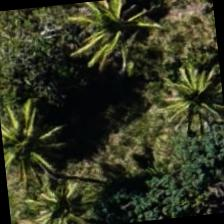Kelapa_Sawit: (140, 42, 223, 141), (0, 78, 77, 176), (62, 0, 160, 73)
